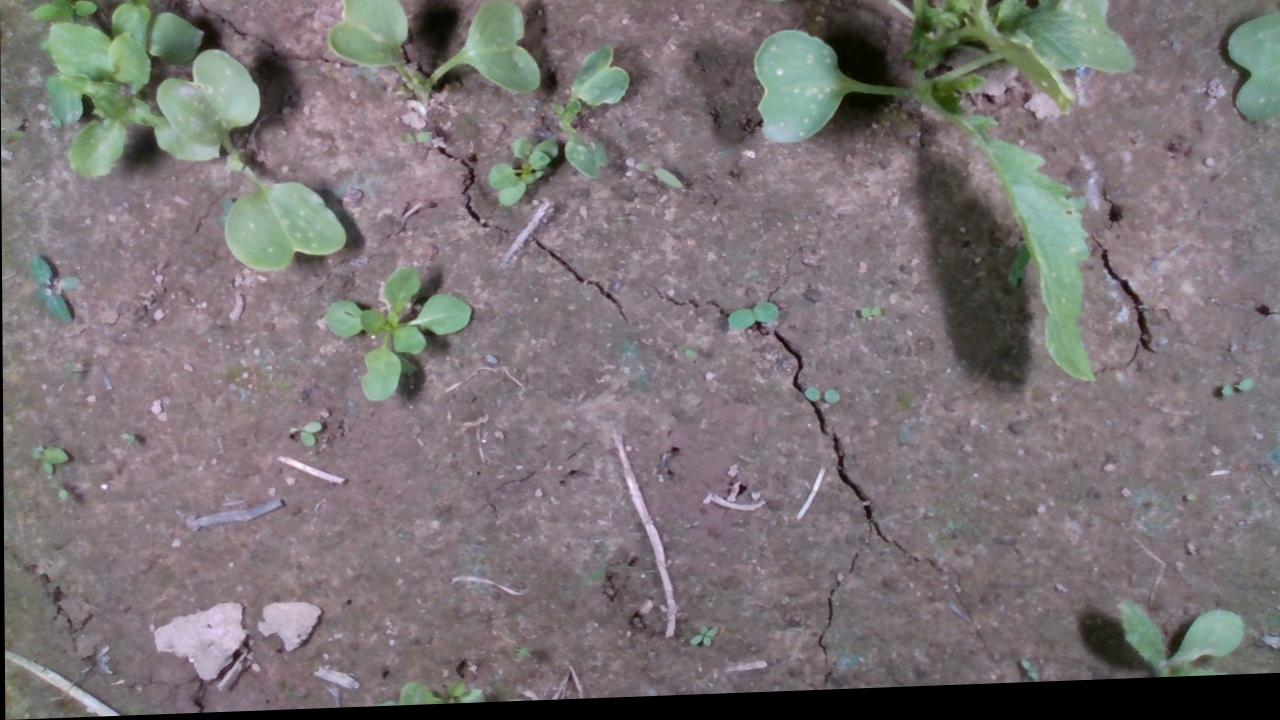weed: (720, 303, 779, 341), (632, 164, 683, 195), (282, 418, 325, 451), (29, 442, 69, 475), (802, 389, 841, 411), (686, 627, 719, 652), (1215, 387, 1255, 407), (400, 130, 437, 148), (854, 310, 884, 325), (52, 485, 69, 506)
